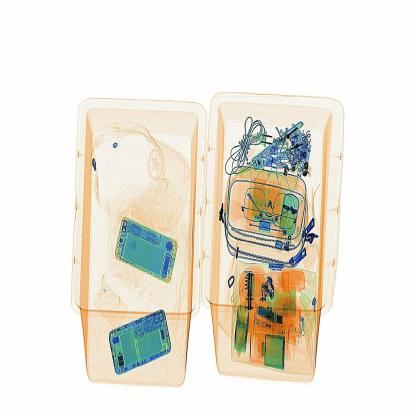scissors: (242, 270, 258, 310)
